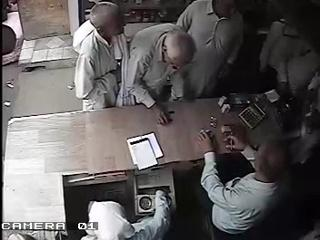Normal: (197, 113, 296, 240), (116, 23, 196, 125), (176, 0, 244, 101), (80, 188, 172, 240)
shoplifting: (73, 1, 128, 111)
